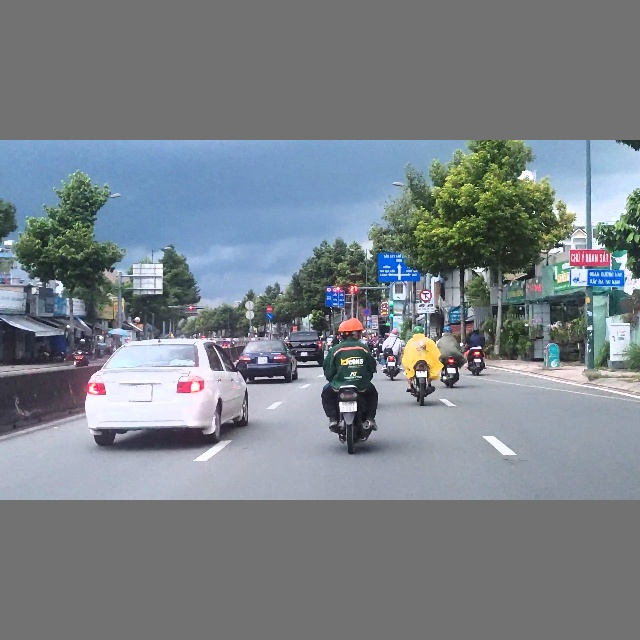P.102: (266, 306, 273, 312)
P.131a: (363, 308, 371, 316)
P.137: (420, 289, 432, 302)
R.302a: (266, 313, 273, 319)
R.415a: (325, 292, 345, 307)
